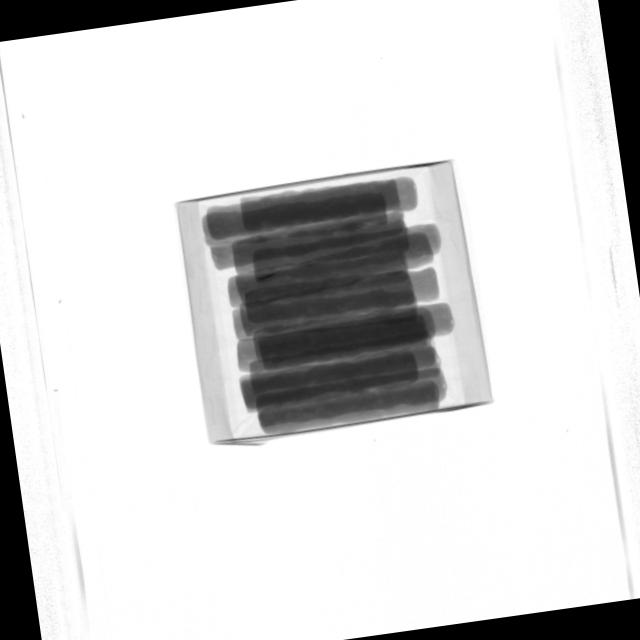ym: (256, 273, 278, 282)
